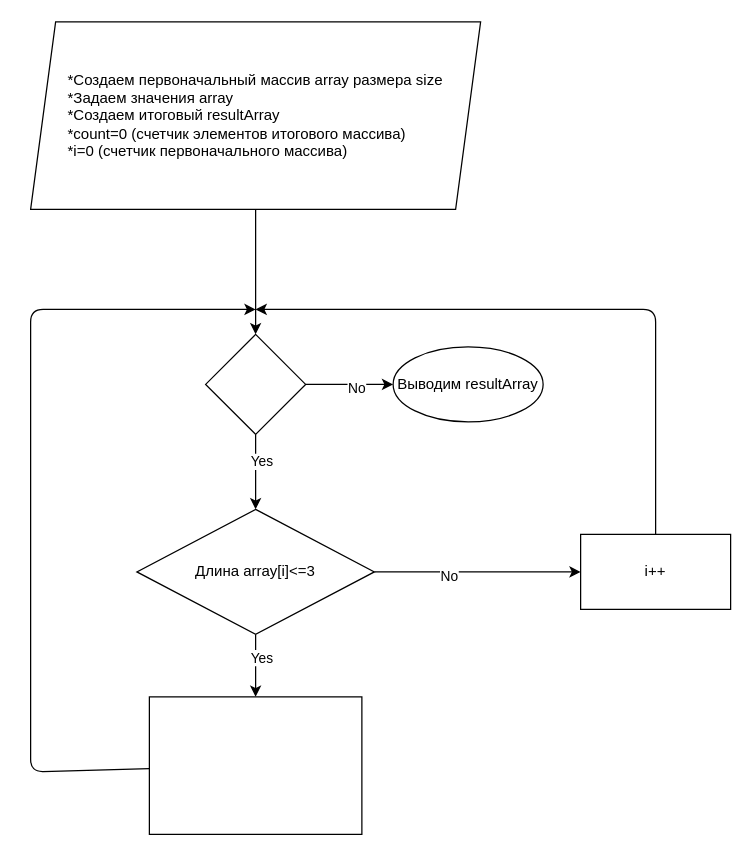
This 753x856 diagram has some shape labels left out. The shapes that lost their labels are listed below. From the top down, each one's box as (x1, y1, x2, y2) in pixels, then its label:
(204, 333, 306, 434): i<size
(148, 696, 362, 834): resultArray[count]=array[i] count++ i++
